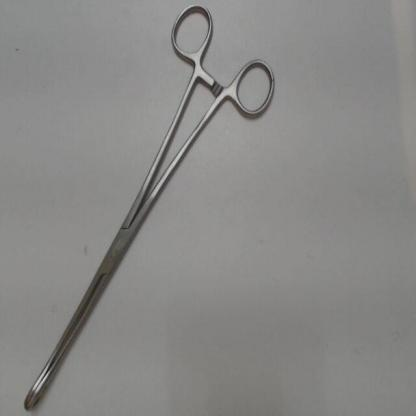Sponge Forceps: (17, 2, 280, 414)
